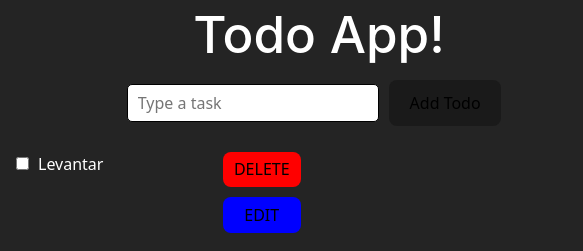
Test: testa se é possivel editar e deletar os elementos › testa se é possivel cancelar edição
Type "Levantar" into the field with placeholder "Type a task".
click(253, 103); type("Levantar")  # box left=127, top=84, right=379, bottom=122
Then press Enter
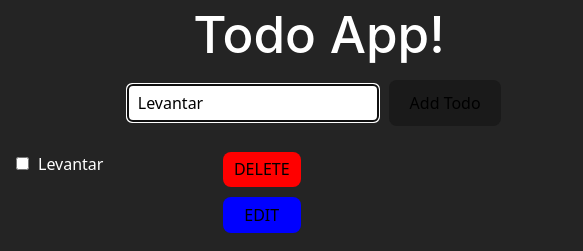
Expected: the text "Levantar" is shown, left=38, top=152, right=104, bottom=176
Click the button "EDIT".
click(262, 215)  # box left=223, top=197, right=300, bottom=233
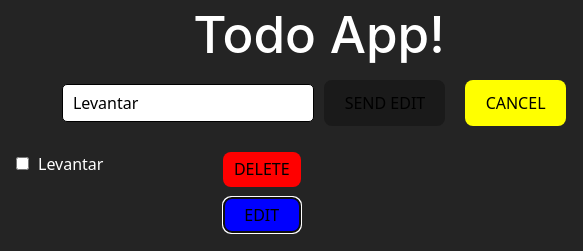
Expected: the button "SEND EDIT" is shown, left=324, top=80, right=446, bottom=126
Click the button "CANCEL".
click(516, 103)  # box left=465, top=80, right=566, bottom=126
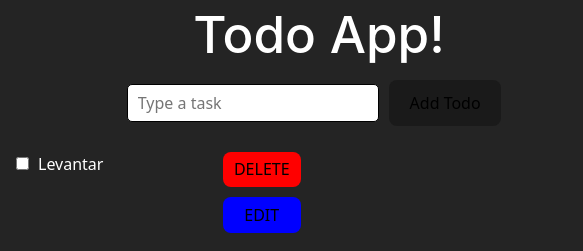
Expected: the button "SEND EDIT" is gone
